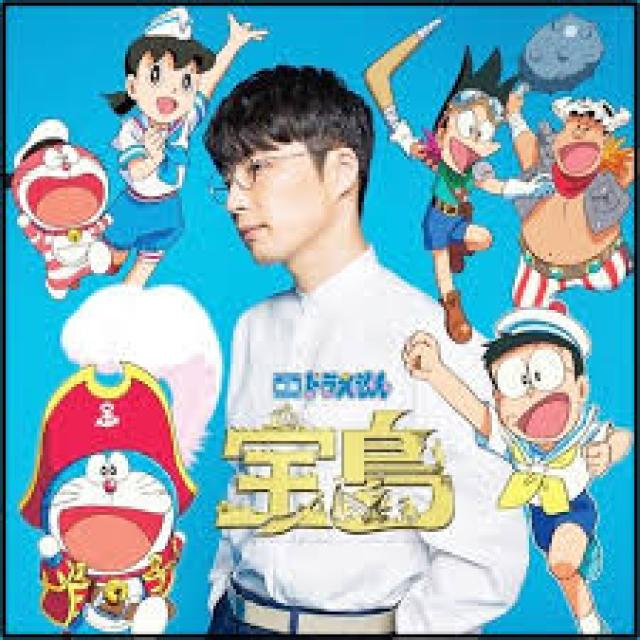doraemon: (31, 441, 185, 597)
jaian: (535, 102, 617, 182)
nobita: (470, 322, 594, 449)
shizuka: (88, 22, 225, 136)
suneo: (418, 40, 524, 179)
